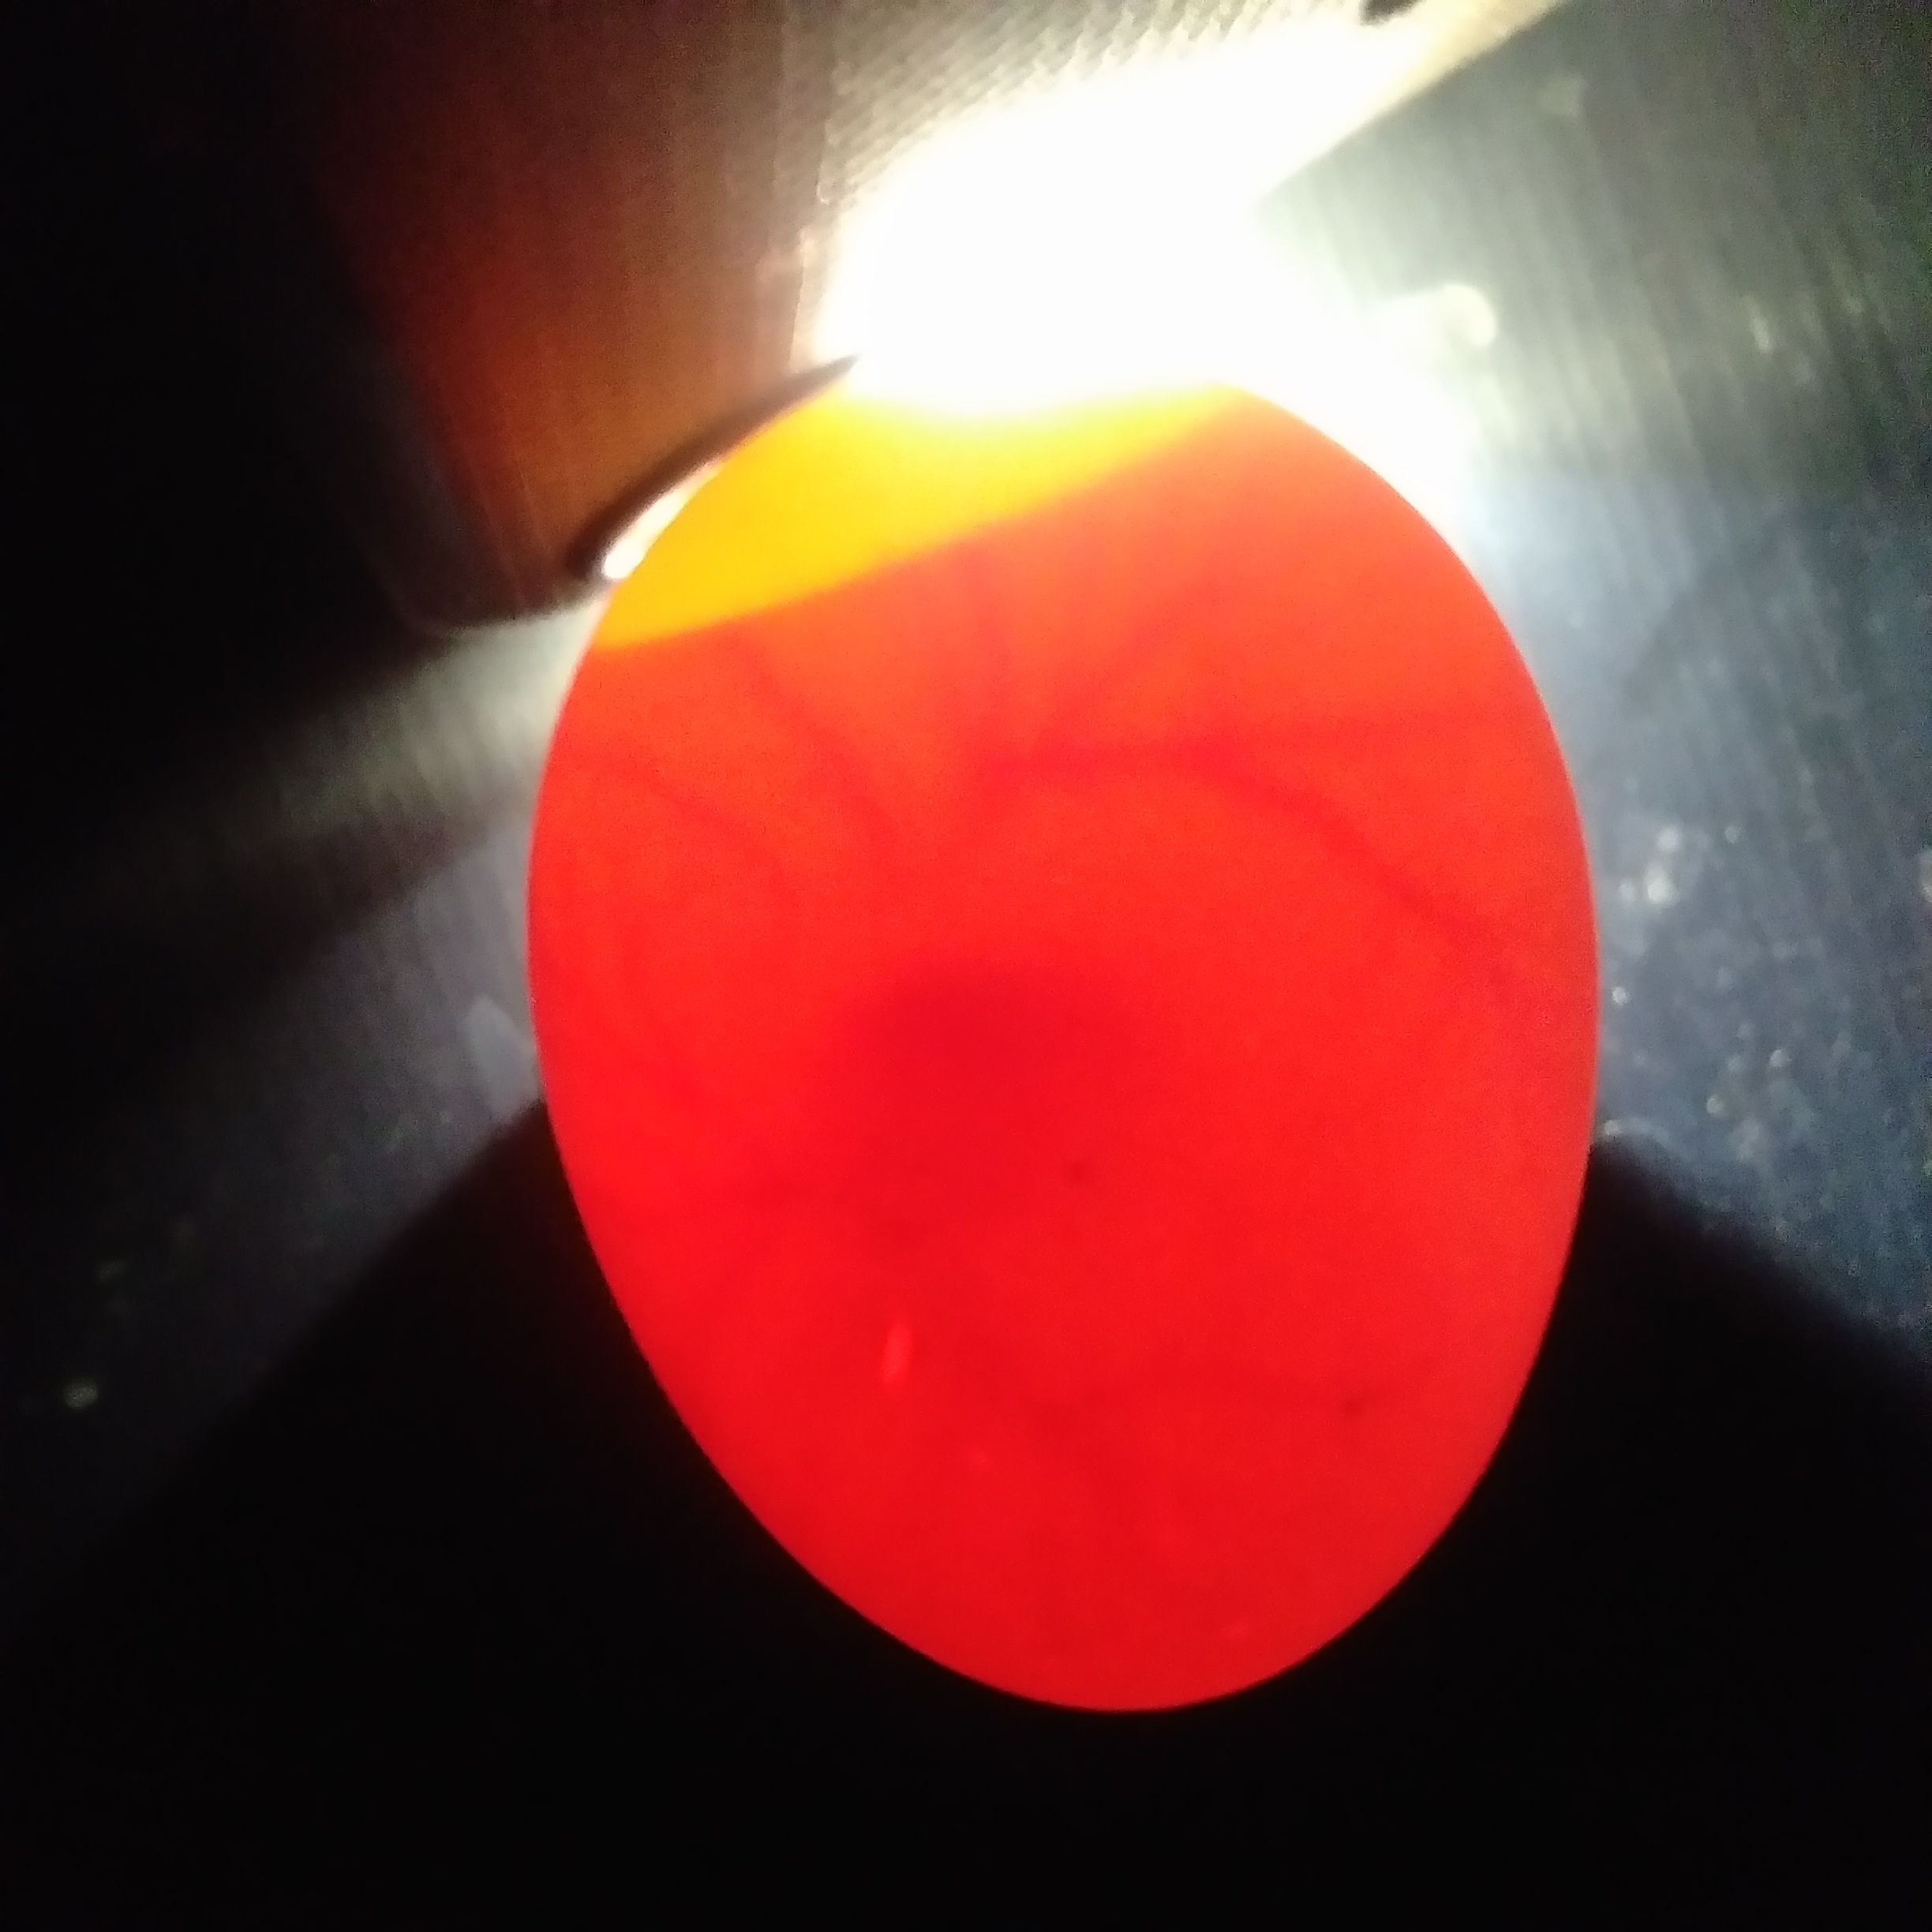bloodcell: (658, 660, 1479, 925), (701, 1203, 1325, 1483), (849, 978, 1099, 1157)
